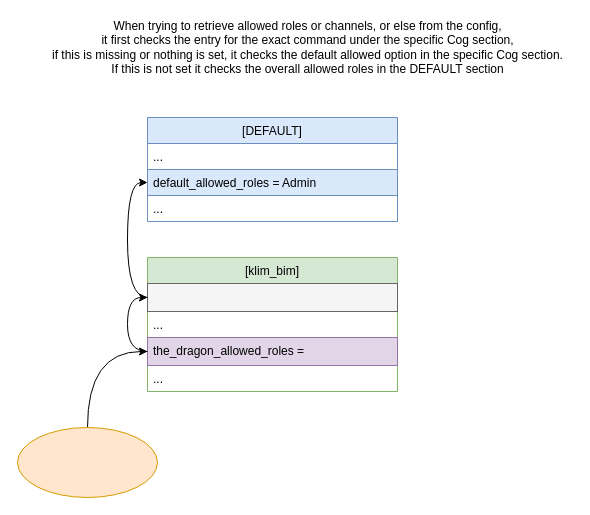
The diagram is 590 pixels wide and 515 high, and some of its shapes have lost their labels. The shapes that lost their labels are listed below. From the top down, each one's centre as x and y in pixels, then its label:
(272,297): default_allowed_roles = member
(87,462): allowed check command: "the_dragon"
